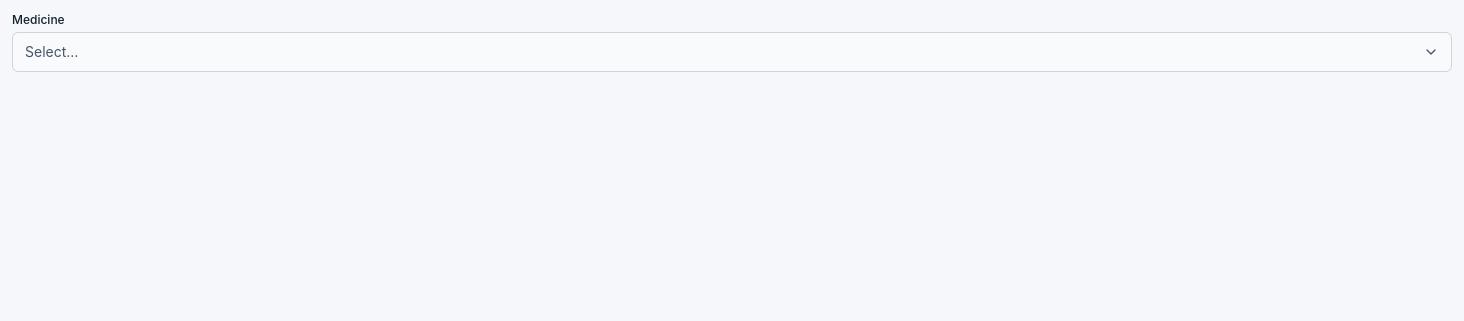
Test: SearchableSelect › says so when nothing matches
The width and height of the screenshot is (1464, 321).
Click the dropdown named "Medicine": point(52, 52) [12,32,1452,72]
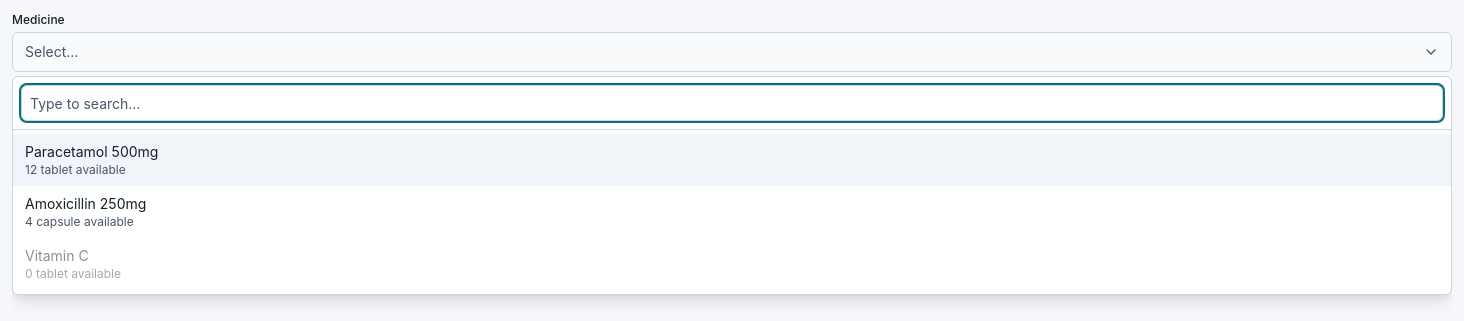
In the search field: point(732, 103) [21,85,1443,121], type "zzz"
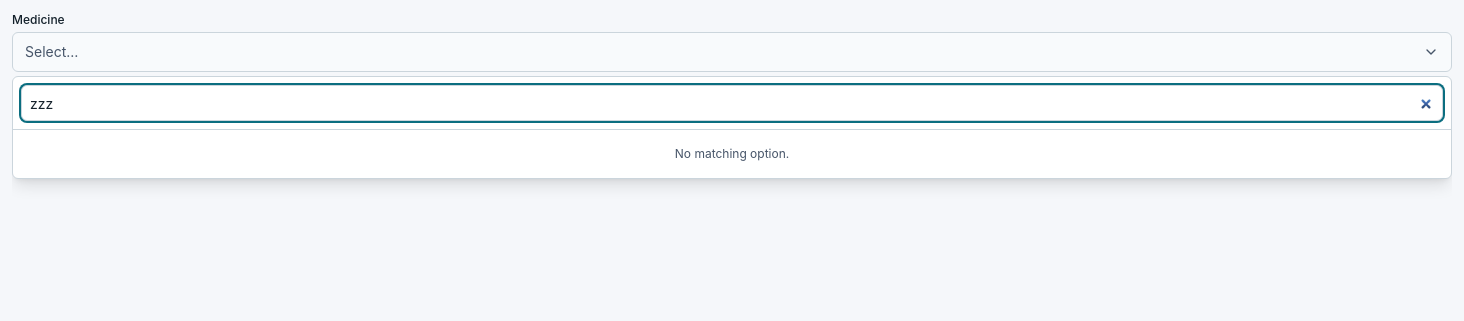
Result: the list item "No matching option." is shown at [675,146,789,161]
Result: no options are shown
